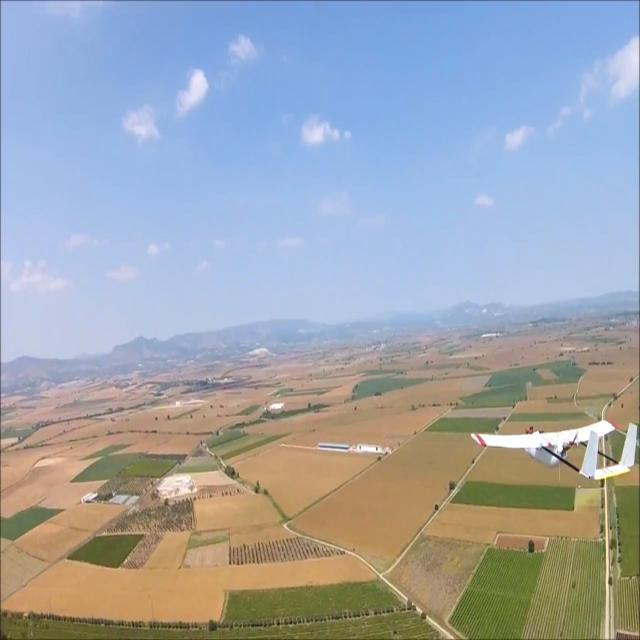iha: (470, 438, 639, 456)
